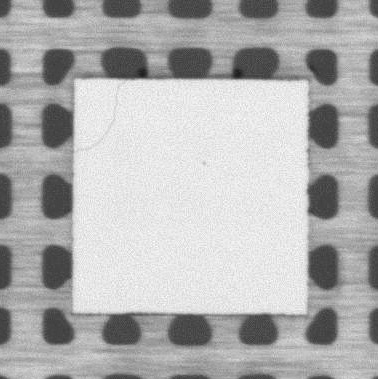DIE_INK: (200, 160, 213, 169)
